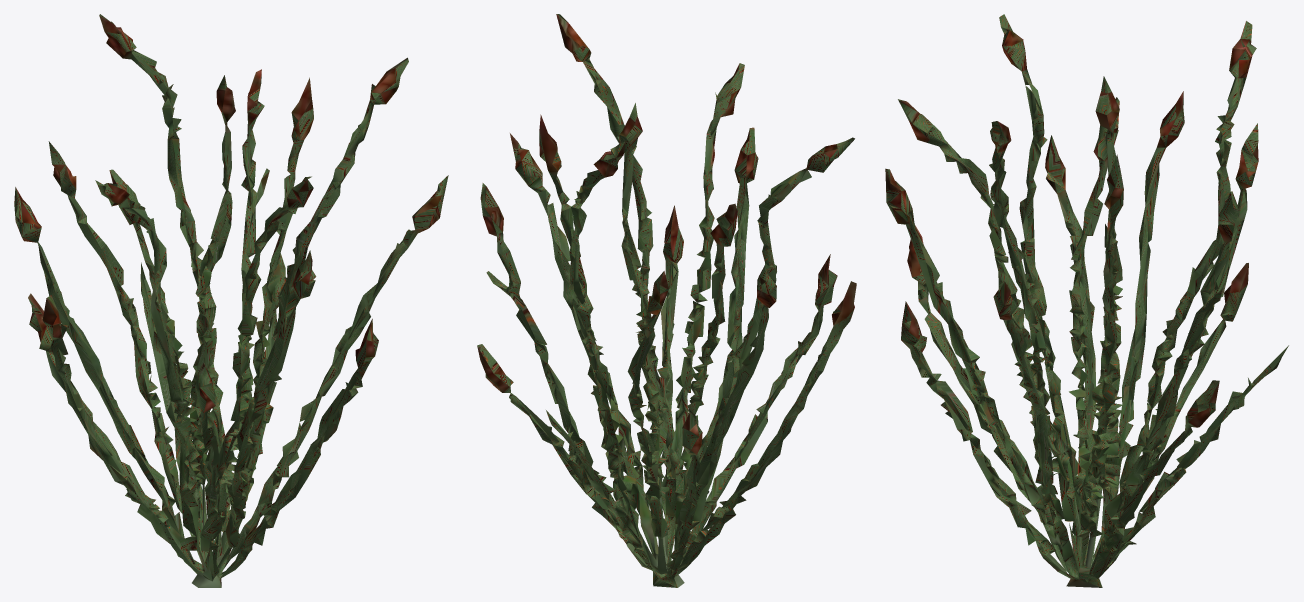
The model's file is desert-plants-ocotillo.glb.
The picture shows the model from 3 angles, left to right: view 1: azimuth 30°, elevation 25°; view 2: azimuth 150°, elevation 25°; view 3: azimuth 270°, elevation 25°; orthographic projection. The views are drawn at different scales.
Parts seen in each view (by area): view 1: world; view 2: world; view 3: world.
Boxes of the visible parts, left/top/right/bottom form: world: left=14, top=14, right=448, bottom=587; world: left=477, top=14, right=856, bottom=587; world: left=885, top=14, right=1288, bottom=587.
Size of the model in its own units: 0.7649 by 0.9986 by 0.6691.
Materials: 1 (1 with a texture image).
